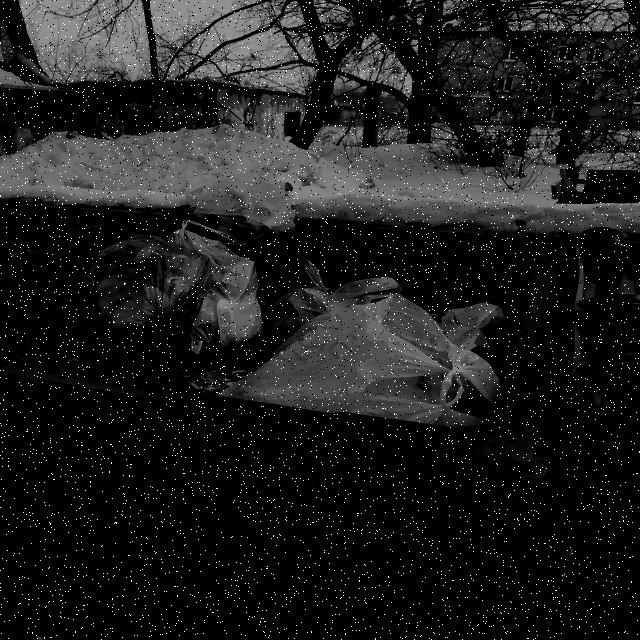Trashcan: (1, 180, 571, 640)
